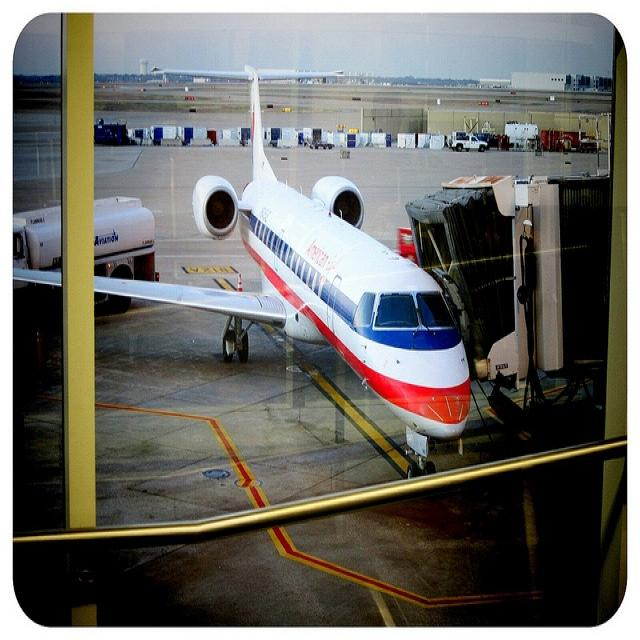truck: (98, 192, 157, 279), (446, 129, 487, 151)
